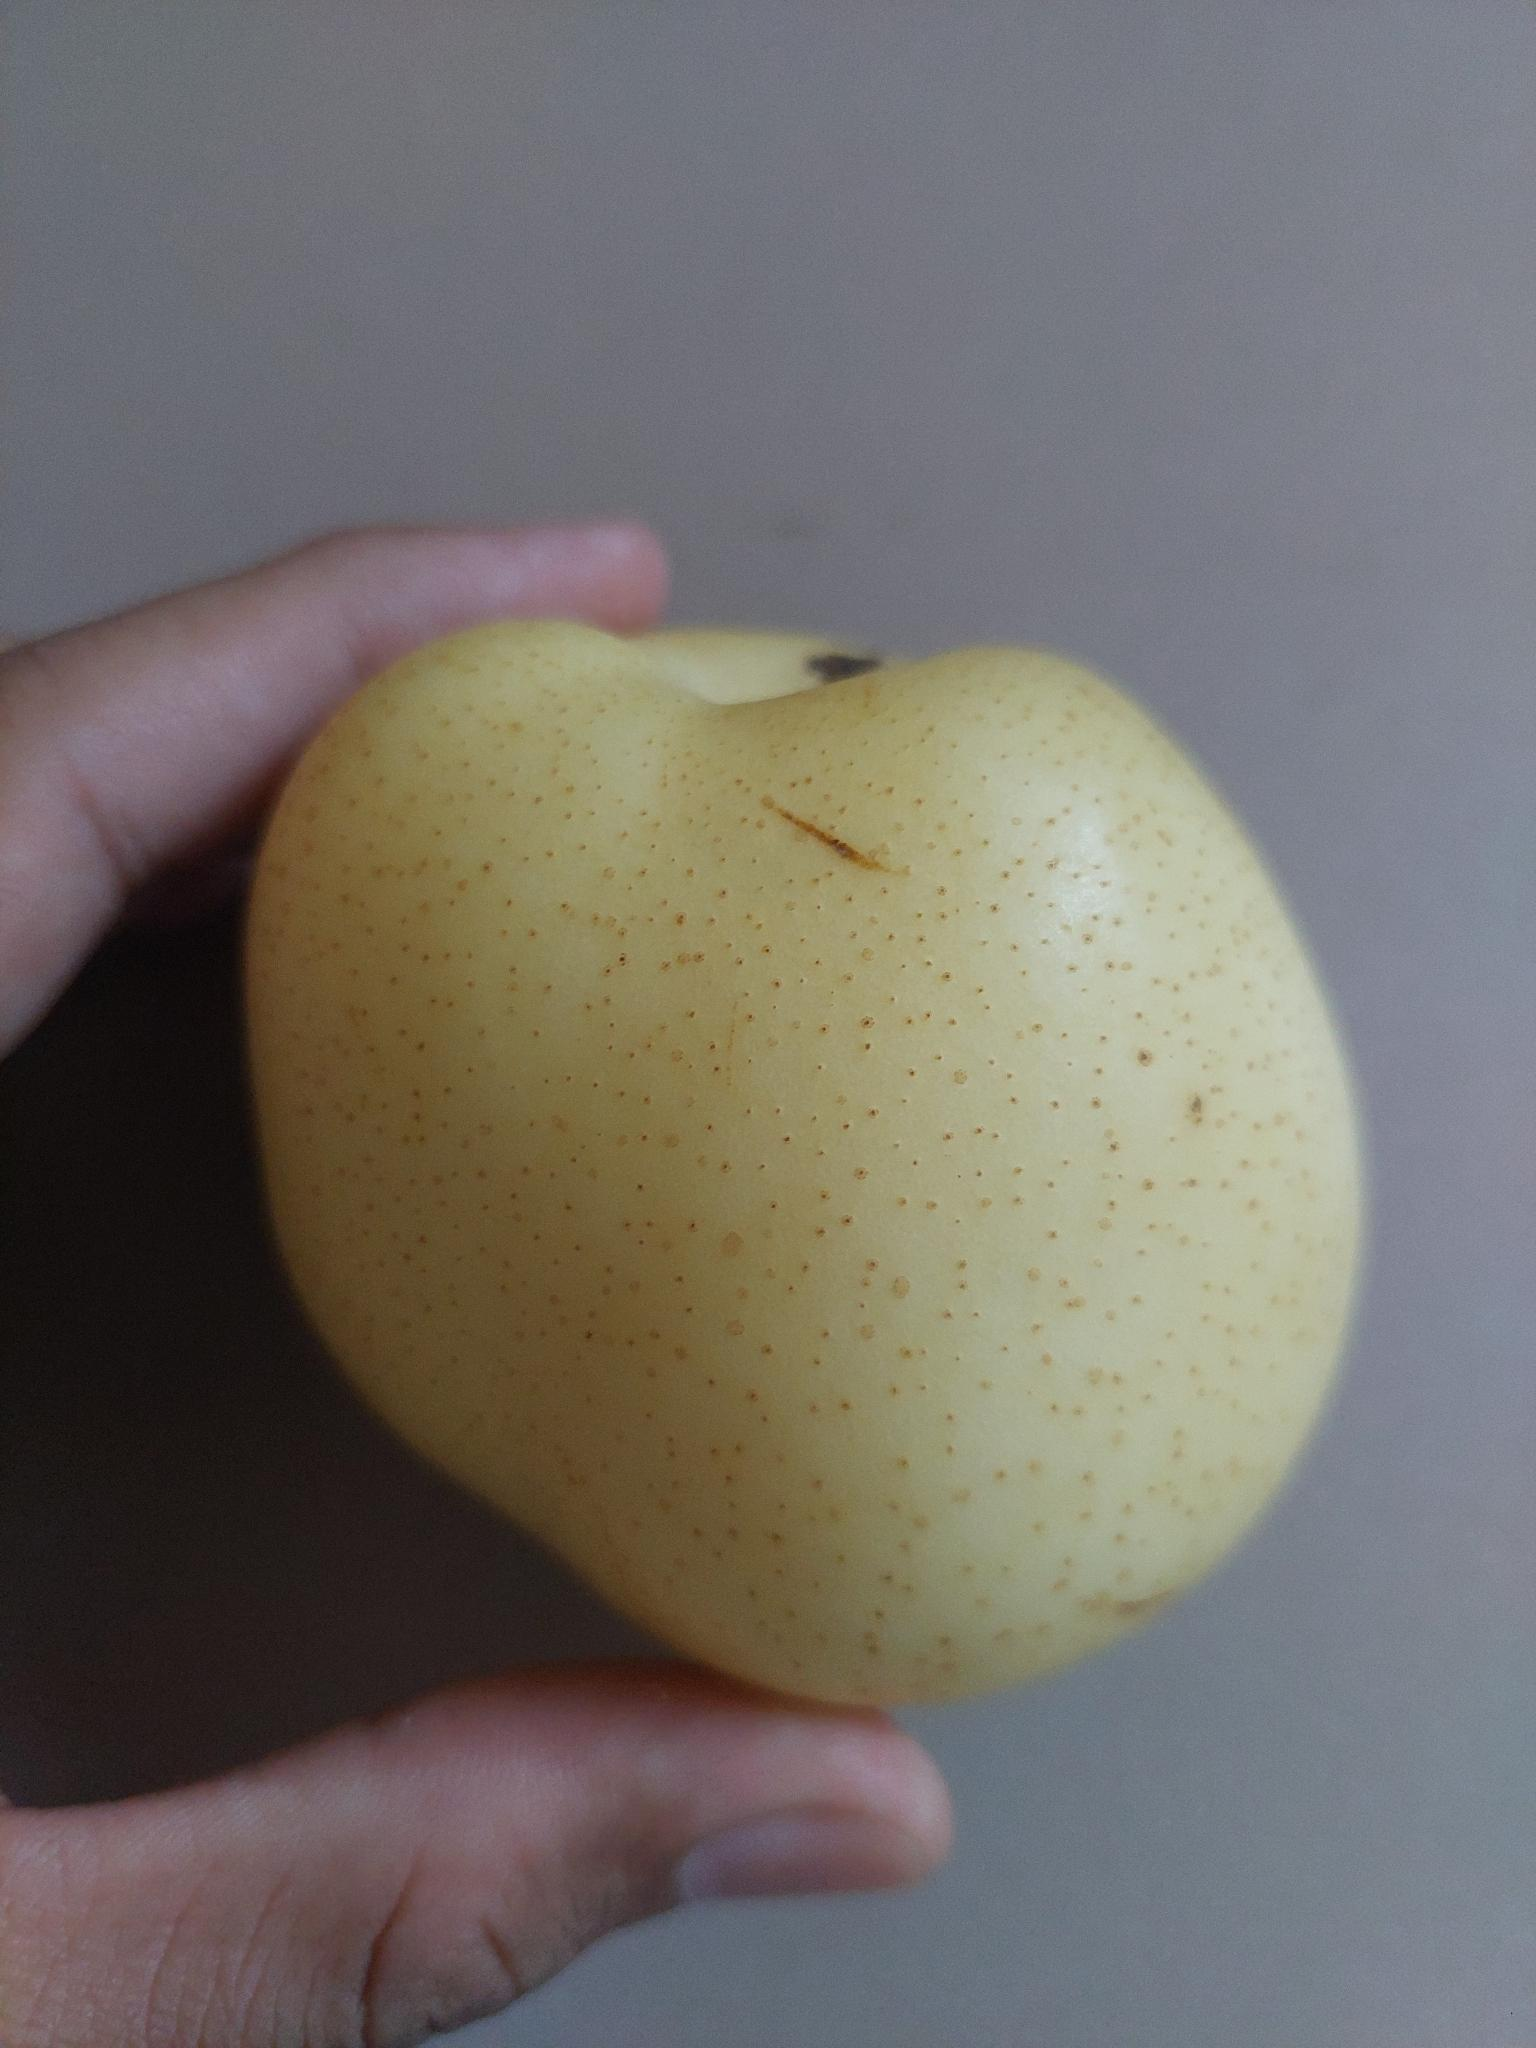Good Pear: (245, 603, 1386, 1714)
